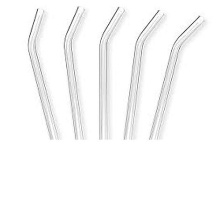drinking_straw: (142, 10, 212, 139), (118, 6, 171, 139), (20, 2, 63, 140), (91, 2, 130, 139), (60, 2, 91, 139)
